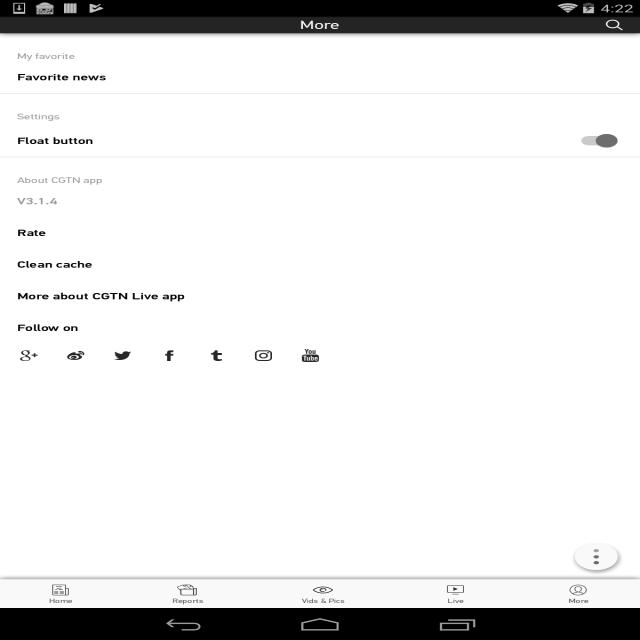ImageButton: (570, 538, 623, 574)
ImageView: (0, 65, 640, 200), (0, 256, 154, 310), (0, 314, 154, 368), (0, 372, 154, 426), (0, 474, 154, 528), (0, 532, 154, 586), (6, 429, 126, 471), (218, 429, 337, 471), (429, 429, 548, 471), (0, 65, 640, 71), (0, 33, 640, 39), (0, 574, 640, 579), (589, 33, 640, 50), (589, 17, 640, 33), (288, 36, 352, 47), (584, 548, 609, 564), (0, 259, 26, 273), (0, 317, 26, 331), (0, 375, 26, 389), (17, 348, 41, 363), (64, 348, 87, 363), (111, 348, 134, 363), (158, 348, 181, 363), (205, 348, 228, 363), (252, 348, 275, 363), (299, 348, 322, 363), (0, 479, 26, 492), (0, 537, 26, 550), (10, 432, 24, 439), (222, 432, 235, 439), (433, 432, 446, 439), (579, 243, 585, 246), (598, 243, 604, 246), (589, 243, 594, 246), (608, 243, 613, 246), (618, 243, 623, 246)
RadioButton: (252, 582, 395, 604), (123, 582, 252, 604), (0, 582, 123, 604), (517, 582, 640, 604), (395, 582, 517, 604)
TextView: (0, 200, 497, 240), (162, 255, 632, 283), (162, 314, 619, 331), (17, 71, 640, 83), (17, 135, 640, 147), (17, 195, 640, 207), (17, 227, 640, 239), (17, 290, 640, 302), (17, 322, 640, 334), (17, 259, 640, 270), (162, 474, 527, 492), (162, 532, 517, 550), (162, 372, 490, 388), (68, 240, 178, 249), (208, 516, 318, 525), (208, 574, 318, 583), (208, 297, 318, 305), (219, 355, 329, 363), (202, 413, 312, 421), (17, 176, 102, 186), (395, 51, 458, 64), (230, 51, 282, 64), (17, 52, 75, 62), (300, 18, 340, 32), (64, 51, 106, 64), (576, 51, 618, 64), (162, 355, 219, 363), (17, 112, 60, 122), (162, 516, 208, 525), (162, 574, 208, 583), (162, 297, 208, 305), (17, 240, 56, 249), (162, 413, 202, 421)
